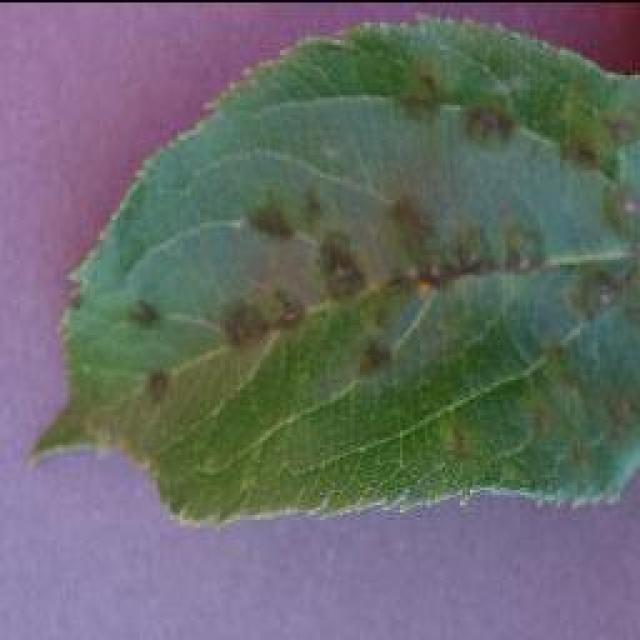apple scab disease: (28, 15, 638, 527)
